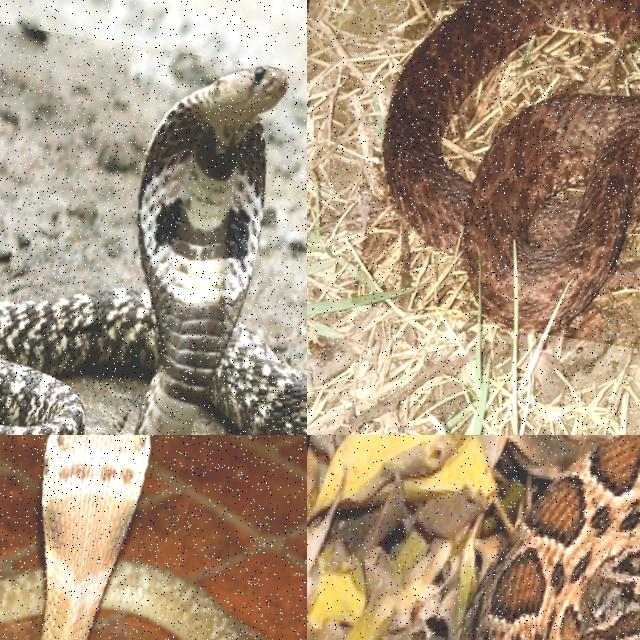Daboia siamensis: (458, 435, 639, 639)
Naja kaouthia: (0, 435, 243, 639)
Ophiophagus hannah: (0, 67, 306, 434)
Ovophis monticola: (383, 0, 639, 332)
snake: (0, 67, 306, 434), (383, 0, 639, 332), (0, 435, 243, 639), (458, 435, 639, 639)
